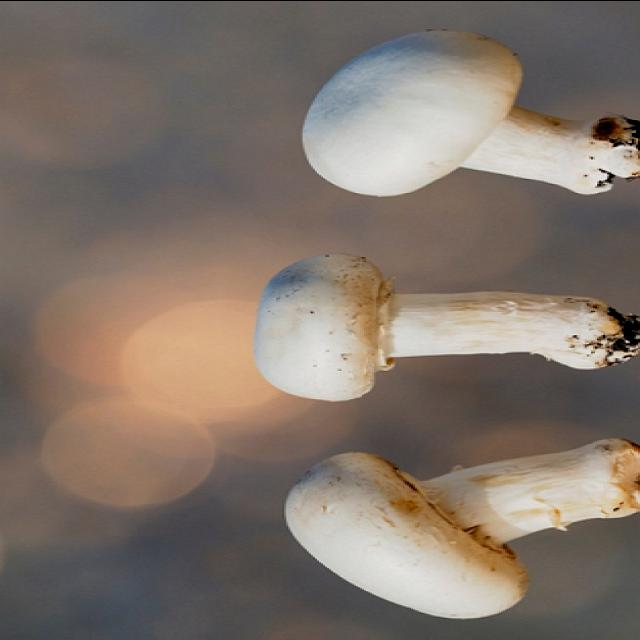Agaricus bisporus: (281, 436, 637, 618), (300, 25, 640, 195), (251, 251, 636, 399)
